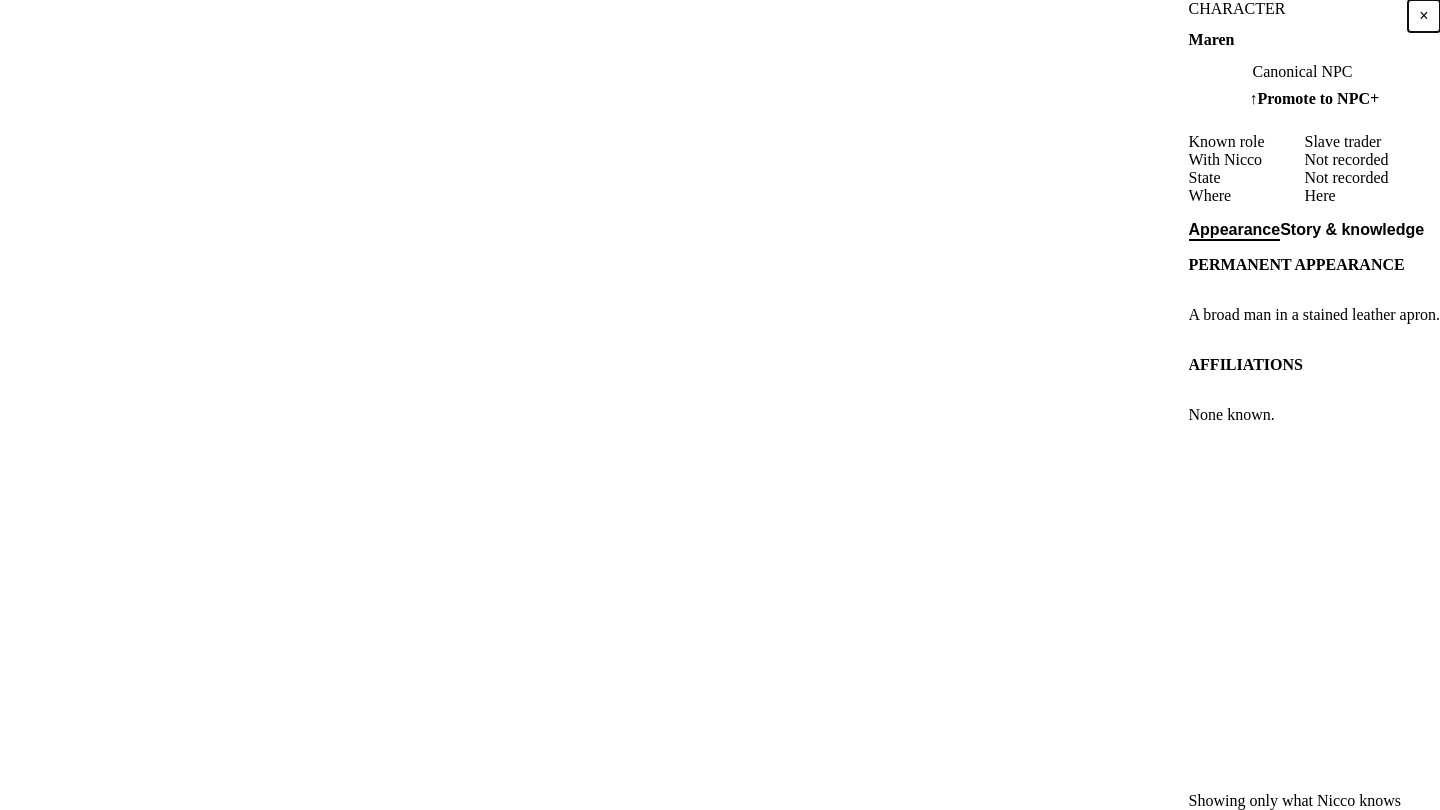
CharacterDrawer › renders Promote only from the capability flag, and its first click only opens the confirmation
Click the button with aria-label "Promote Maren to NPC+". click: (1314, 98)
box: [1188,80,1439,116]
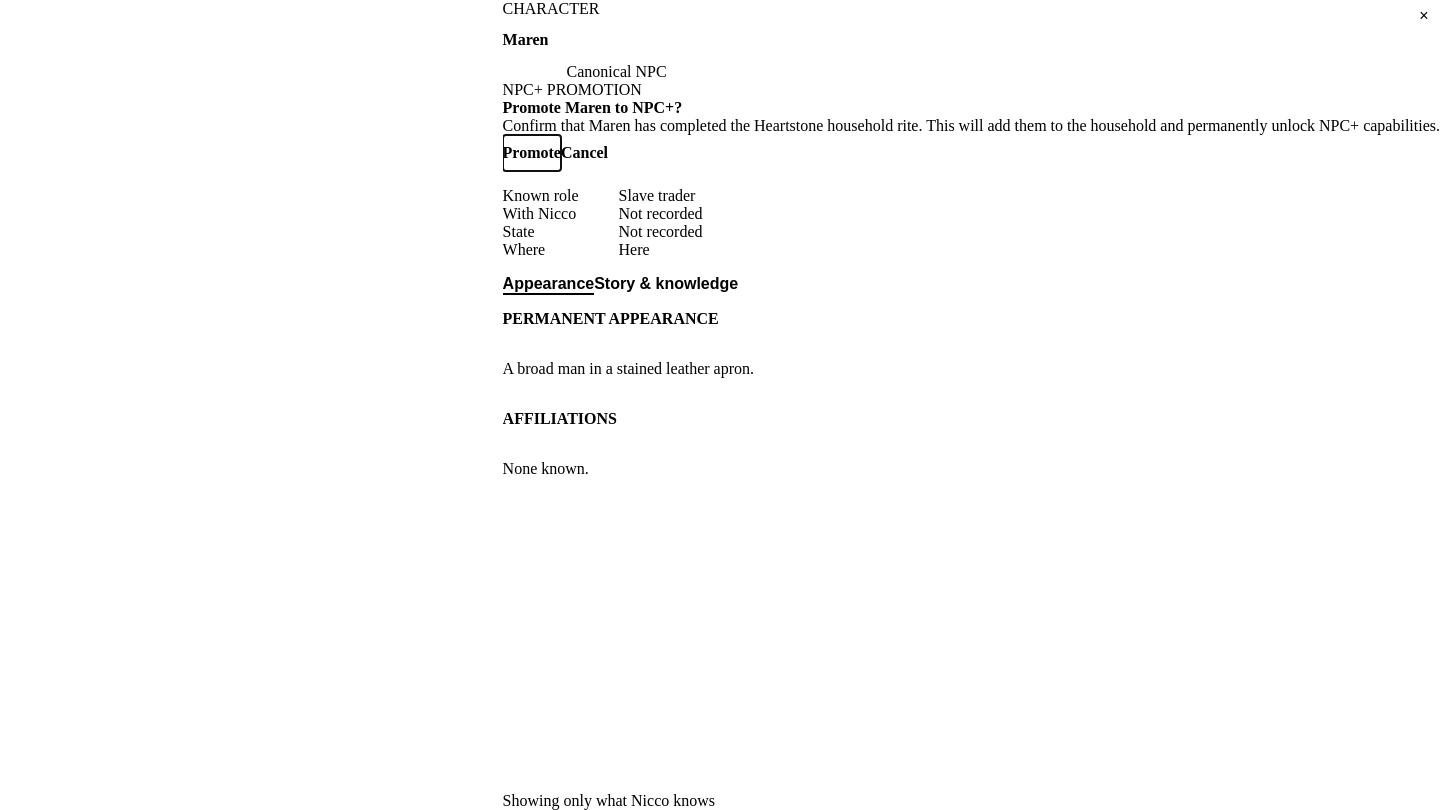
Expected: the element "Promote Maren to NPC+?" is shown, [503,80,1439,170]
